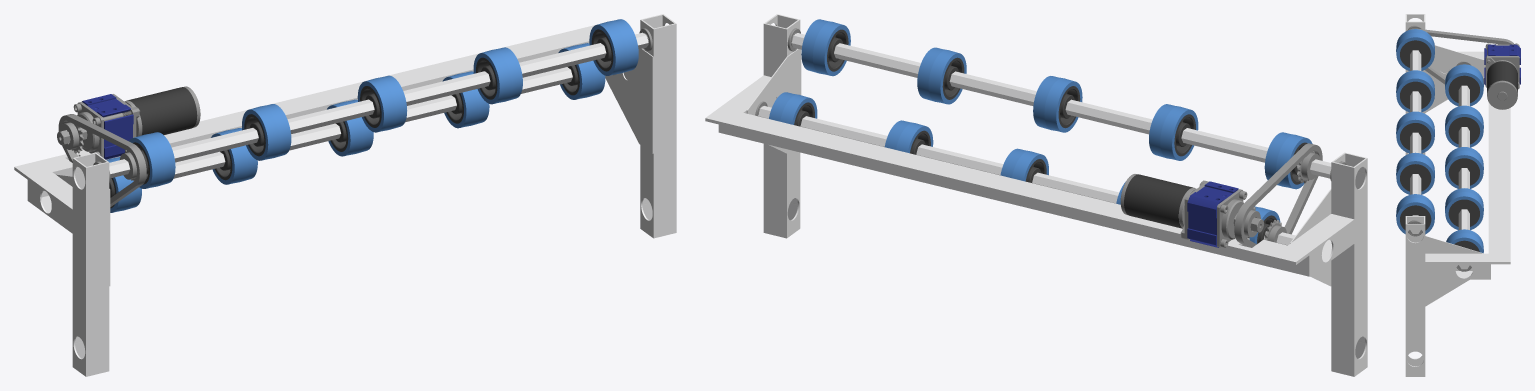
The picture shows the model from 3 angles, left to right: view 1: azimuth 30°, elevation 25°; view 2: azimuth 150°, elevation 25°; view 3: azimuth 270°, elevation 25°; orthographic projection. The views are drawn at different scales.
Parts seen in each view (by area): view 1: Moving Lower Arm:2, Crossbeam:1, Moving Lower Arm:1, Hex Shaft 24in v1:1, Hex Shaft 24in v1:2, Gusset :2, BAG Motor v1:1, 2in Stealth Wheel 500HEX am-3155 v2:8, 2in Stealth Wheel 500HEX am-3155 v2:5, 2in Stealth Wheel 500HEX am-3155 v2:7, 2in Stealth Wheel 500HEX am-3155 v2:6, Linkage Intake Side:2 (+9 smaller); view 2: Crossbeam:1, Moving Lower Arm:2, Hex Shaft 24in v1:1, Moving Lower Arm:1, Hex Shaft 24in v1:2, BAG Motor v1:1, Linkage Intake Side:2, 2in Stealth Wheel 500HEX am-3155 v2:8, 2in Stealth Wheel 500HEX am-3155 v2:5, 2in Stealth Wheel 500HEX am-3155 v2:6, 2in Stealth Wheel 500HEX am-3155 v2:7, Chain:1 (+9 smaller); view 3: Crossbeam:1, Moving Lower Arm:1, Linkage Intake Side:1, BAG Motor v1:1, Gusset :2, Gusset :1, 2in Stealth Wheel 500HEX am-3155 v2:11, 2in Stealth Wheel 500HEX am-3155 v2:12, 2in Stealth Wheel 500HEX am-3155 v2:6, 2in Stealth Wheel 500HEX am-3155 v2:3, 2in Stealth Wheel 500HEX am-3155 v2:9, 2in Stealth Wheel 500HEX am-3155 v2:7 (+11 smaller).
Boxes of the visible parts, x1,y1,x2,y2 form: Moving Lower Arm:2: [72, 152, 109, 376]; Crossbeam:1: [14, 24, 596, 201]; Moving Lower Arm:1: [640, 14, 676, 238]; Hex Shaft 24in v1:1: [109, 32, 648, 178]; Hex Shaft 24in v1:2: [173, 67, 572, 178]; Gusset :2: [605, 48, 653, 153]; BAG Motor v1:1: [124, 86, 200, 136]; 2in Stealth Wheel 500HEX am-3155 v2:8: [473, 47, 522, 104]; 2in Stealth Wheel 500HEX am-3155 v2:5: [589, 19, 638, 75]; 2in Stealth Wheel 500HEX am-3155 v2:7: [242, 104, 291, 160]; 2in Stealth Wheel 500HEX am-3155 v2:6: [357, 75, 407, 132]; Linkage Intake Side:2: [29, 172, 72, 233]; Crossbeam:1: [705, 107, 1310, 276]; Moving Lower Arm:2: [1331, 152, 1367, 376]; Hex Shaft 24in v1:1: [791, 33, 1331, 178]; Moving Lower Arm:1: [763, 14, 800, 238]; Hex Shaft 24in v1:2: [758, 106, 1295, 245]; BAG Motor v1:1: [1120, 174, 1196, 228]; Linkage Intake Side:2: [1288, 214, 1354, 274]; 2in Stealth Wheel 500HEX am-3155 v2:8: [917, 47, 966, 104]; 2in Stealth Wheel 500HEX am-3155 v2:5: [801, 19, 850, 76]; 2in Stealth Wheel 500HEX am-3155 v2:6: [1033, 76, 1082, 132]; 2in Stealth Wheel 500HEX am-3155 v2:7: [1149, 104, 1198, 160]; Chain:1: [1234, 143, 1322, 247]; Crossbeam:1: [1488, 102, 1510, 279]; Moving Lower Arm:1: [1405, 216, 1425, 376]; Linkage Intake Side:1: [1425, 253, 1488, 279]; BAG Motor v1:1: [1487, 60, 1517, 109]; Gusset :2: [1425, 236, 1483, 306]; Gusset :1: [1405, 45, 1483, 113]; 2in Stealth Wheel 500HEX am-3155 v2:11: [1445, 188, 1483, 230]; 2in Stealth Wheel 500HEX am-3155 v2:12: [1396, 29, 1434, 70]; 2in Stealth Wheel 500HEX am-3155 v2:6: [1396, 111, 1434, 153]; 2in Stealth Wheel 500HEX am-3155 v2:3: [1445, 64, 1483, 106]; 2in Stealth Wheel 500HEX am-3155 v2:9: [1445, 147, 1483, 188]; 2in Stealth Wheel 500HEX am-3155 v2:7: [1396, 70, 1434, 112].
Bounding box in the file's own units: 0.6477 × 0.2286 × 0.1624.
